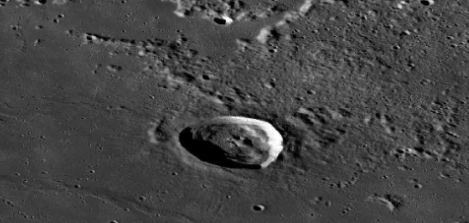crater: (148, 96, 320, 193)
